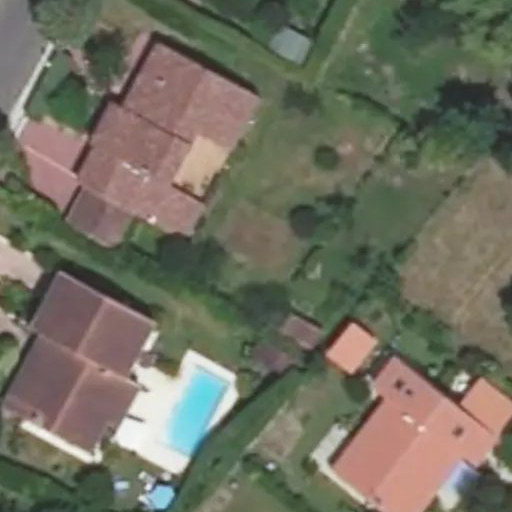pool: (222, 239, 289, 245)
